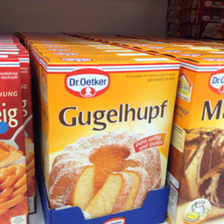cake: (39, 55, 179, 219)
